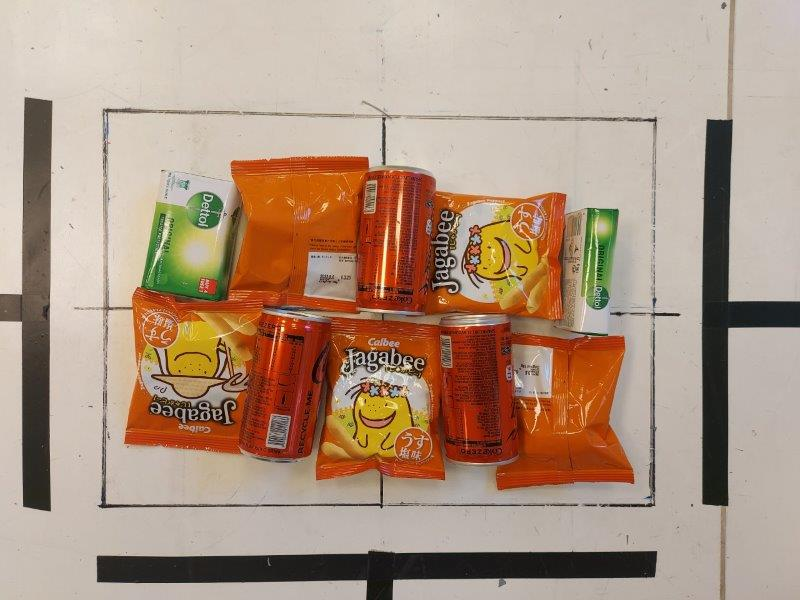Coke: (240, 309, 329, 462), (437, 315, 520, 465), (358, 164, 433, 317)
Dettol: (141, 169, 244, 302), (555, 210, 621, 336)
Jagabee: (126, 287, 264, 460), (229, 155, 367, 312), (497, 334, 633, 486), (320, 314, 444, 480), (414, 191, 562, 320)
